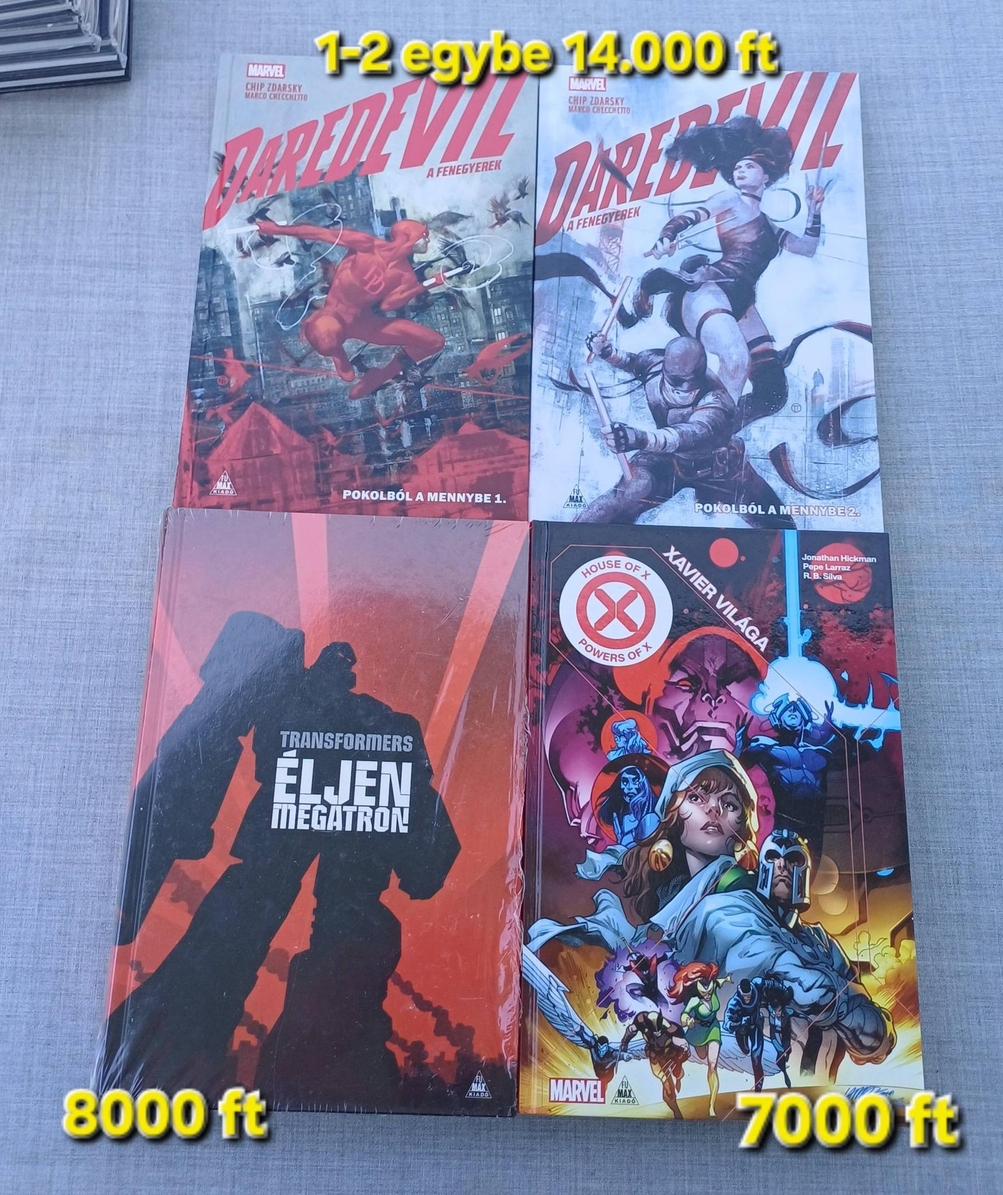comic: (95, 508, 533, 1115), (520, 523, 932, 1122), (175, 48, 551, 523), (531, 68, 887, 531)
